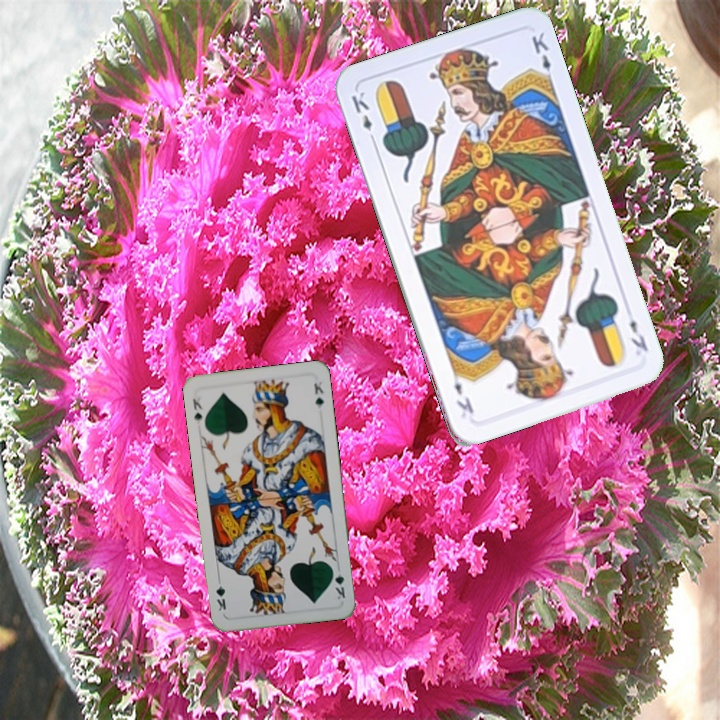EK: (347, 87, 379, 146), (624, 303, 651, 354)
GK: (328, 563, 348, 602), (189, 395, 205, 426)
